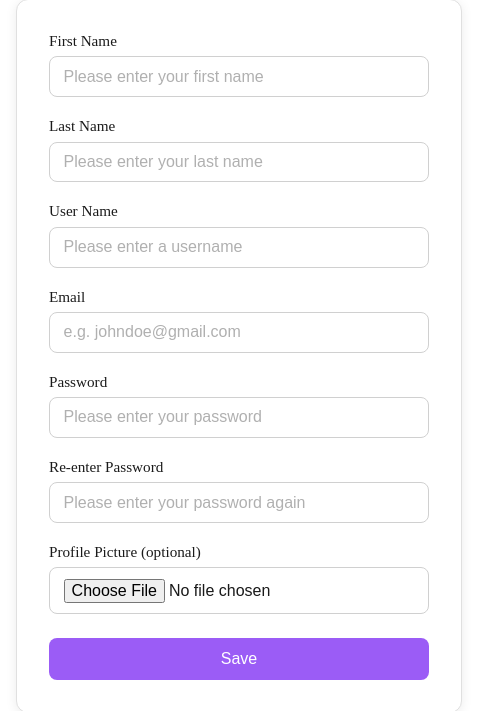
Test: SignUpForm › shows error when any field is empty on submit
Click the button "Save" at (239, 659), box [49,638,429,680]
(page scrolled)
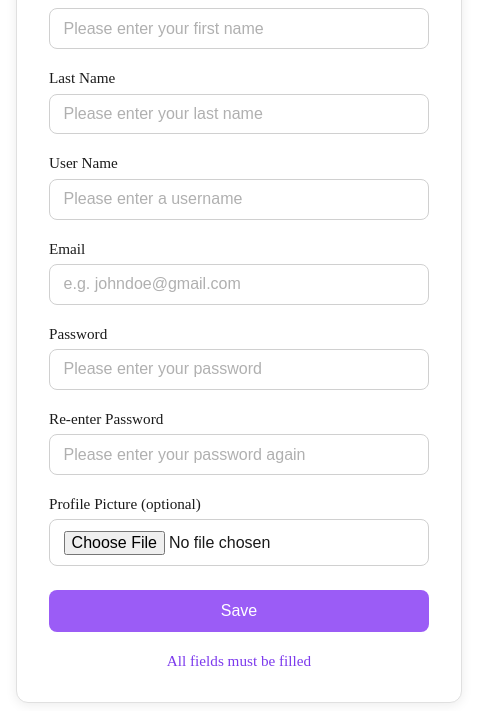
Result: the text "All fields must be filled" is shown at [167,652,311,669]
